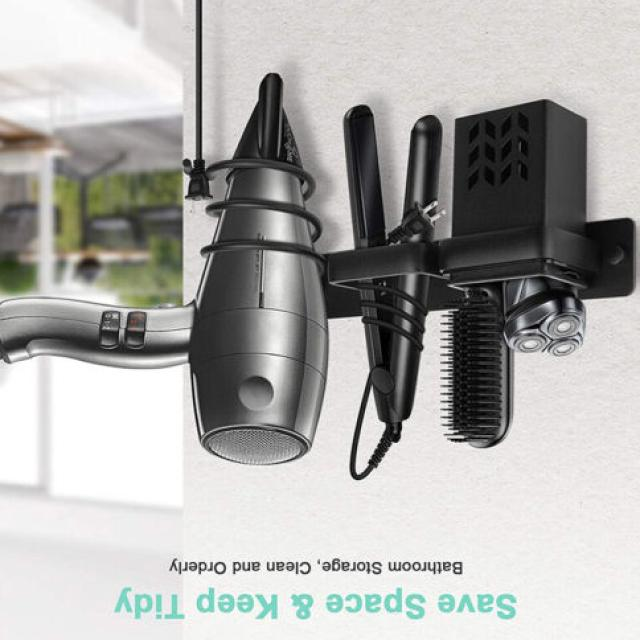dryer: (0, 64, 356, 490)
